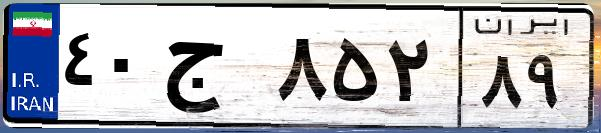0: (110, 28, 158, 98)
2: (385, 28, 445, 110)
4: (57, 26, 110, 100)
5: (330, 28, 385, 110)
8: (270, 28, 330, 110), (475, 38, 525, 113)
9: (525, 38, 570, 115)
ج: (158, 20, 270, 120)
